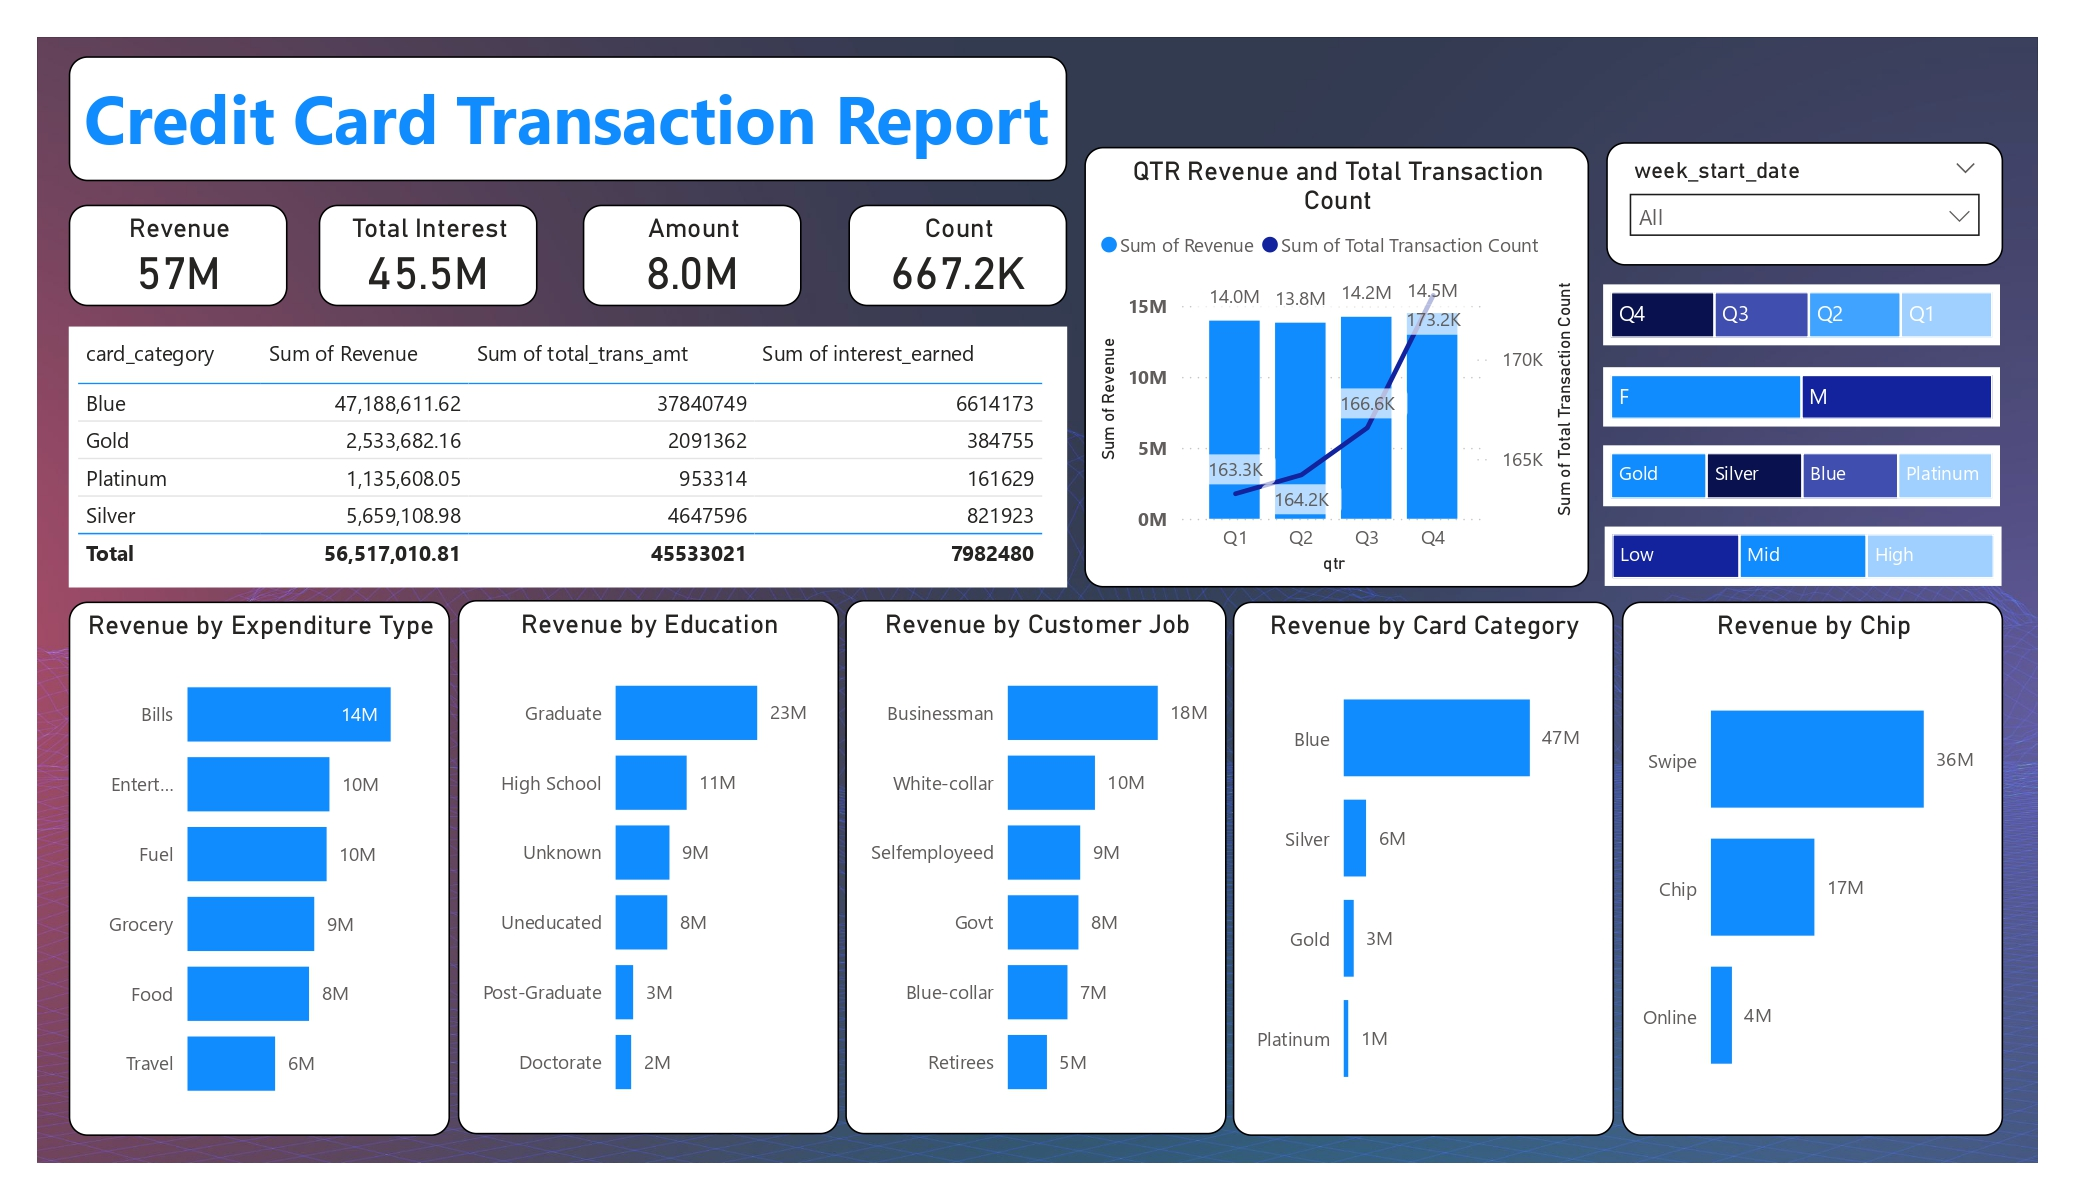

The page's visual inventory and layout, read from the dashboard file:
{"tool":"powerbi","page":{"name":"CC_Transaction","canvas":[1280,720],"ordinal":0},"visuals":[{"type":"textbox","box":[20.2,12.1,639,79.7],"z":0},{"type":"lineStackedColumnComboChart","title":"QTR Revenue and Total Transaction Count","fields":{"Category":["public cc_detail.qtr"],"Y":["Sum(public cc_detail.Revenue)"],"Y2":["Sum(public cc_detail.total_trans_ct)"]},"box":[670.3,69.7,323,282.6],"z":1000},{"type":"barChart","title":"Revenue by Expenditure Type","fields":{"Y":["Sum(public cc_detail.Revenue)"],"Category":["public cc_detail.exp_type"]},"box":[20.2,361.4,244.3,341.2],"z":2000},{"type":"barChart","title":"Revenue by Education","fields":{"Y":["Sum(public cc_detail.Revenue)"],"Category":["public cust_detail.education_level"]},"box":[268.5,360.4,244.3,341.2],"z":3000},{"type":"barChart","title":"Revenue by Customer Job","fields":{"Y":["Sum(public cc_detail.Revenue)"],"Category":["public cust_detail.customer_job"]},"box":[516.9,360.4,244.3,341.2],"z":4000},{"type":"barChart","title":"Revenue by Card Category","fields":{"Y":["Sum(public cc_detail.Revenue)"],"Category":["public cc_detail.card_category"]},"box":[765.2,361.4,244,341.2],"z":5000},{"type":"barChart","title":"Revenue by Chip","fields":{"Y":["Sum(public cc_detail.Revenue)"],"Category":["public cc_detail.use_chip"]},"box":[1013.5,361.4,244.3,341.2],"z":6000},{"type":"tableEx","fields":{"Values":["public cc_detail.card_category","Sum(public cc_detail.Revenue)","Sum(public cc_detail.total_trans_amt)","Sum(public cc_detail.interest_earned)"]},"box":[20.2,184.7,639,167.6],"z":7000},{"type":"card","title":"Revenue","fields":{"Values":["Sum(public cc_detail.Revenue)"]},"box":[20.2,107,140,65],"z":8000},{"type":"card","title":"Total Interest","fields":{"Values":["Sum(public cc_detail.total_trans_amt)"]},"box":[179.7,107,140,65],"z":9000},{"type":"card","title":"Amount","fields":{"Values":["Sum(public cc_detail.interest_earned)"]},"box":[349.3,107,140,65],"z":10000},{"type":"card","title":"Count","fields":{"Values":["Sum(public cc_detail.total_trans_ct)"]},"box":[518.9,107,140.3,65],"z":11000},{"type":"slicer","fields":{"Values":["public cc_detail.week_start_date"]},"box":[1004.4,66.6,253.4,79.7],"z":12000},{"type":"treemap","fields":{"Group":["public cc_detail.qtr"],"Values":["Avg(public cc_detail.client_num)"]},"box":[1002.4,158.5,253.4,38.4],"z":13000},{"type":"treemap","fields":{"Values":["Avg(public cc_detail.client_num)"],"Group":["public cust_detail.gender"]},"box":[1002.4,211,253.4,38.4],"z":14000},{"type":"treemap","fields":{"Values":["Avg(public cc_detail.client_num)"],"Group":["public cc_detail.card_category"]},"box":[1002.4,261.5,253.4,38.4],"z":15000},{"type":"treemap","fields":{"Values":["Avg(public cc_detail.client_num)"],"Group":["public cust_detail.IncomeGroup"]},"box":[1003.4,312.9,253.4,38.4],"z":16000}]}

Visuals, with their boxes in screenshot pixels (x1, y1, x2, y2):
textbox: rect(69, 56, 1068, 181)
"QTR Revenue and Total Transaction Count" lineStackedColumnComboChart: rect(1085, 146, 1590, 588)
"Revenue by Expenditure Type" barChart: rect(69, 602, 451, 1135)
"Revenue by Education" barChart: rect(457, 601, 839, 1134)
"Revenue by Customer Job" barChart: rect(845, 601, 1227, 1134)
"Revenue by Card Category" barChart: rect(1233, 602, 1614, 1135)
"Revenue by Chip" barChart: rect(1621, 602, 2003, 1135)
tableEx - public cc_detail.card_category x Sum(public cc_detail.Revenue): rect(69, 326, 1068, 588)
"Revenue" card: rect(69, 205, 288, 306)
"Total Interest" card: rect(318, 205, 537, 306)
"Amount" card: rect(583, 205, 802, 306)
"Count" card: rect(848, 205, 1068, 306)
slicer - public cc_detail.week_start_date: rect(1607, 142, 2003, 266)
treemap - public cc_detail.qtr x Avg(public cc_detail.client_num): rect(1604, 285, 2000, 345)
treemap - Avg(public cc_detail.client_num) x public cust_detail.gender: rect(1604, 367, 2000, 427)
treemap - Avg(public cc_detail.client_num) x public cc_detail.card_category: rect(1604, 446, 2000, 506)
treemap - Avg(public cc_detail.client_num) x public cust_detail.IncomeGroup: rect(1605, 526, 2001, 586)
